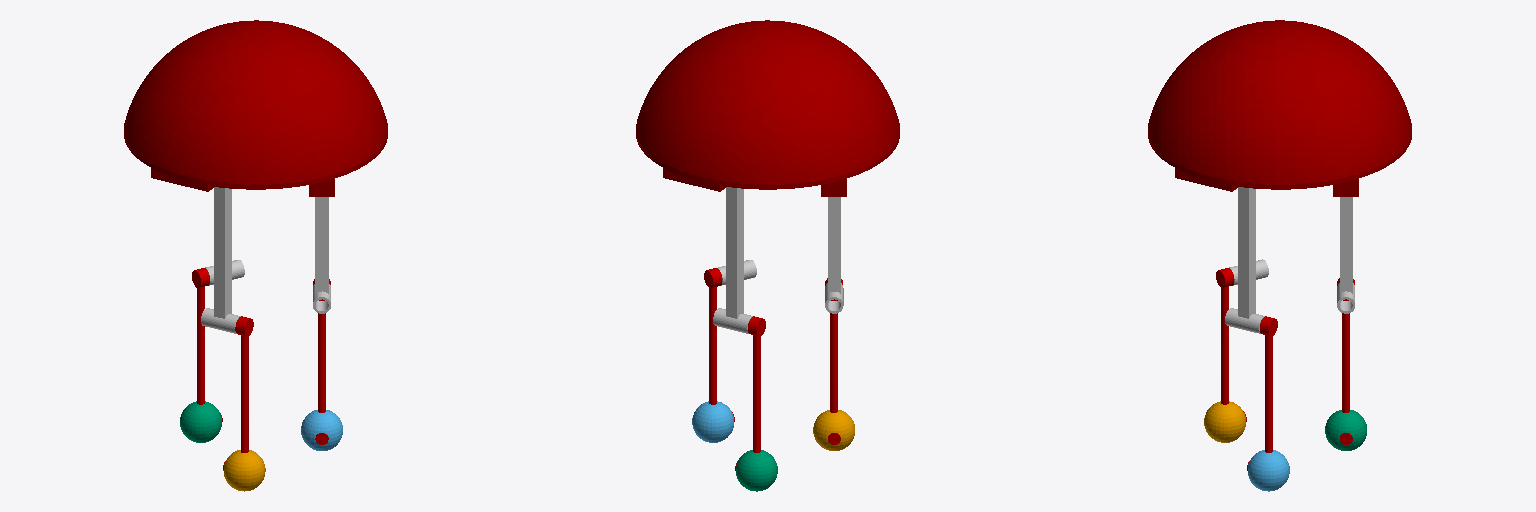
robot.urdf — gurdy:
<robot name="gurdy">

    <material name="blue">
        <color rgba="0 0 0.8 1"/>
    </material>
    <material name="red">
        <color rgba="0.8 0 0 1"/>
    </material>
    <material name="green">
        <color rgba="0 0.8 0 1"/>
    </material>
	<!-- * * * Link Definitions * * * -->

    <link name="base_link">
        <collision>
            <origin xyz="0 0 0" rpy="0 0 0"/>
            <geometry>
                <box size="0.01 0.01 0.01"/>
            </geometry>
        </collision>
		<visual>
		    <origin xyz="0 0 0.01" rpy="0 0 0"/>
			<geometry>
				<box size="0.01 0.01 0.01"/>
			</geometry>
		</visual>
	</link>

    <link name="head_link">
 	    <inertial>
            <origin xyz="0 0 0.02" rpy="0 0 0"/>
            <mass value="0.01" />
            <inertia ixx="7.58333333333e-07" ixy="0.0" ixz="0.0" iyy="7.58333333333e-07" iyz="0.0" izz="1.25e-06"/>
        </inertial>
        <collision>
            <origin xyz="0 0 0.02" rpy="0 0 0"/>
            <geometry>
                <cylinder radius="0.05" length="0.04"/>
            </geometry>
        </collision>
        <visual>
            <origin rpy="0.0 0 0" xyz="0 0 0"/>
            <geometry>
                <mesh filename="package://my_gurdy_description/models/gurdy/meshes/gurdy_head_v2.dae"/>
            </geometry>
        </visual>
	</link>

    <gazebo reference="head_link">
        <mu1>10.0</mu1>
        <mu2>10.0</mu2>
    </gazebo>

    <joint name="fixed" type="fixed">
        <parent link="base_link"/>
        <child link="head_link"/>
    </joint>

    <link name="upperleg_M1_link">
 	    <inertial>
            <origin xyz="0 0 0.03" rpy="0 0 0"/>
            <mass value="0.01" />
            <inertia ixx="3.015625e-05" ixy="0.0" ixz="0.0" iyy="3.015625e-05" iyz="0.0" izz="3.125e-07"/>
        </inertial>
        <collision>
            <origin xyz="0 0 0.03" rpy="0 0 0"/>
            <geometry>
                <cylinder length="0.06" radius="0.0025"/>
            </geometry>
        </collision>
        <visual>
            <origin rpy="0.0 0 0" xyz="0 0 0"/>
            <geometry>
                <mesh filename="package://my_gurdy_description/models/gurdy/meshes/gurdy_higherleg_v2.dae"/>
            </geometry>
        </visual>
	</link>


    <joint name="head_upperlegM1_joint" type="revolute">
    	<parent link="head_link"/>
    	<child link="upperleg_M1_link"/>
        <origin xyz="-0.02165 -0.0125 -0.008" rpy="3.14159 0 0.523599"/>
        <limit lower="-1.55" upper="0.0" effort="1.0" velocity="0.005"/>
        <axis xyz="0 1 0"/>
	</joint>


    <gazebo>
        <plugin name="gazebo_ros_control" filename="libgazebo_ros_control.so">
            <robotNamespace>/gurdy</robotNamespace>
        </plugin>
    </gazebo>

    <transmission name="tran1">
        <type>transmission_interface/SimpleTransmission</type>
        <joint name="head_upperlegM1_joint">
            <hardwareInterface>EffortJointInterface</hardwareInterface>
        </joint>
        <actuator name="motor1">
            <hardwareInterface>EffortJointInterface</hardwareInterface>
            <mechanicalReduction>1</mechanicalReduction>
        </actuator>
    </transmission>

    <link name="upperleg_M2_link">
 	    <inertial>
            <origin xyz="0 0 0.03" rpy="0 0 0"/>
            <mass value="0.01" />
            <inertia ixx="3.015625e-05" ixy="0.0" ixz="0.0" iyy="3.015625e-05" iyz="0.0" izz="3.125e-07"/>
        </inertial>
        <collision>
            <origin xyz="0 0 0.03" rpy="0 0 0"/>
            <geometry>
                <cylinder length="0.06" radius="0.0025"/>
            </geometry>
        </collision>
        <visual>
            <origin rpy="0.0 0 0" xyz="0 0 0"/>
            <geometry>
                <mesh filename="package://my_gurdy_description/models/gurdy/meshes/gurdy_higherleg_v2.dae"/>
            </geometry>
        </visual>
	</link>


    <joint name="head_upperlegM2_joint" type="revolute">
    	<parent link="head_link"/>
    	<child link="upperleg_M2_link"/>
        <origin xyz="0.02165 -0.0125 -0.008" rpy="3.14159 0 2.61799"/>
        <limit lower="-1.55" upper="0.0" effort="1.0" velocity="0.005"/>
        <axis xyz="0 1 0"/>
	</joint>

    <transmission name="tran2">
        <type>transmission_interface/SimpleTransmission</type>
        <joint name="head_upperlegM2_joint">
            <hardwareInterface>EffortJointInterface</hardwareInterface>
        </joint>
        <actuator name="motor2">
            <hardwareInterface>EffortJointInterface</hardwareInterface>
            <mechanicalReduction>1</mechanicalReduction>
        </actuator>
    </transmission>


    <link name="upperleg_M3_link">
 	    <inertial>
            <origin xyz="0 0 0.03" rpy="0 0 0"/>
            <mass value="0.01" />
            <inertia ixx="3.015625e-05" ixy="0.0" ixz="0.0" iyy="3.015625e-05" iyz="0.0" izz="3.125e-07"/>
        </inertial>
        <collision>
            <origin xyz="0 0 0.03" rpy="0 0 0"/>
            <geometry>
                <cylinder length="0.06" radius="0.0025"/>
            </geometry>
        </collision>
        <visual>
            <origin rpy="0.0 0 0" xyz="0 0 0"/>
            <geometry>
                <mesh filename="package://my_gurdy_description/models/gurdy/meshes/gurdy_higherleg_v2.dae"/>
            </geometry>
        </visual>
	</link>


    <joint name="head_upperlegM3_joint" type="revolute">
    	<parent link="head_link"/>
    	<child link="upperleg_M3_link"/>
        <origin xyz="0 0.025 -0.008" rpy="3.14159 0 -1.5708"/>
        <limit lower="-1.55" upper="0.0" effort="1.0" velocity="0.005"/>
        <axis xyz="0 1 0"/>
	</joint>

    <transmission name="tran3">
        <type>transmission_interface/SimpleTransmission</type>
        <joint name="head_upperlegM3_joint">
            <hardwareInterface>EffortJointInterface</hardwareInterface>
        </joint>
        <actuator name="motor3">
            <hardwareInterface>EffortJointInterface</hardwareInterface>
            <mechanicalReduction>1</mechanicalReduction>
        </actuator>
    </transmission>


    <link name="lowerleg_M1_link">
 	    <inertial>
            <origin xyz="0 0 0.03" rpy="0 0 0"/>
            <mass value="0.01" />
            <inertia ixx="3.005625e-05" ixy="0.0" ixz="0.0" iyy="3.005625e-05" iyz="0.0" izz="1.125e-07"/>
        </inertial>
        <collision>
            <origin xyz="0 0 0.03" rpy="0 0 0"/>
            <geometry>
                <cylinder length="0.06" radius="0.0015"/>
            </geometry>
        </collision>
        <visual>
            <origin rpy="0.0 0 0" xyz="0 0 0"/>
            <geometry>
                <mesh filename="package://my_gurdy_description/models/gurdy/meshes/gurdy_lowerleg_v2.dae"/>
            </geometry>
        </visual>
	</link>


    <joint name="upperlegM1_lowerlegM1_joint" type="continuous">
    	<parent link="upperleg_M1_link"/>
    	<child link="lowerleg_M1_link"/>
        <origin xyz="0 0.0095 0.06" rpy="0 0 3.14159"/>
        <limit lower="-2.9" upper="1.5708" effort="1.0" velocity="0.005"/>
        <axis xyz="0 1 0"/>
	</joint>

    <transmission name="tran4">
        <type>transmission_interface/SimpleTransmission</type>
        <joint name="upperlegM1_lowerlegM1_joint">
            <hardwareInterface>EffortJointInterface</hardwareInterface>
        </joint>
        <actuator name="motor4">
            <hardwareInterface>EffortJointInterface</hardwareInterface>
            <mechanicalReduction>1</mechanicalReduction>
        </actuator>
    </transmission>

    <link name="lowerleg_M2_link">
 	    <inertial>
            <origin xyz="0 0 0.03" rpy="0 0 0"/>
            <mass value="0.01" />
            <inertia ixx="3.005625e-05" ixy="0.0" ixz="0.0" iyy="3.005625e-05" iyz="0.0" izz="1.125e-07"/>
        </inertial>
        <collision>
            <origin xyz="0 0 0.03" rpy="0 0 0"/>
            <geometry>
                <cylinder length="0.06" radius="0.0015"/>
            </geometry>
        </collision>
        <visual>
            <origin rpy="0.0 0 0" xyz="0 0 0"/>
            <geometry>
                <mesh filename="package://my_gurdy_description/models/gurdy/meshes/gurdy_lowerleg_v2.dae"/>
            </geometry>
        </visual>
	</link>


    <joint name="upperlegM2_lowerlegM2_joint" type="revolute">
    	<parent link="upperleg_M2_link"/>
    	<child link="lowerleg_M2_link"/>
        <origin xyz="0 0.0095 0.06" rpy="0 0 3.14159"/>
        <limit lower="-2.9" upper="1.5708" effort="1.0" velocity="0.005"/>
        <axis xyz="0 1 0"/>
	</joint>

    <transmission name="tran5">
        <type>transmission_interface/SimpleTransmission</type>
        <joint name="upperlegM2_lowerlegM2_joint">
            <hardwareInterface>EffortJointInterface</hardwareInterface>
        </joint>
        <actuator name="motor5">
            <hardwareInterface>EffortJointInterface</hardwareInterface>
            <mechanicalReduction>1</mechanicalReduction>
        </actuator>
    </transmission>

    <link name="lowerleg_M3_link">
 	    <inertial>
            <origin xyz="0 0 0.03" rpy="0 0 0"/>
            <mass value="0.01" />
            <inertia ixx="3.005625e-05" ixy="0.0" ixz="0.0" iyy="3.005625e-05" iyz="0.0" izz="1.125e-07"/>
        </inertial>
        <collision>
            <origin xyz="0 0 0.03" rpy="0 0 0"/>
            <geometry>
                <cylinder length="0.06" radius="0.0015"/>
            </geometry>
        </collision>
        <visual>
            <origin rpy="0.0 0 0" xyz="0 0 0"/>
            <geometry>
                <mesh filename="package://my_gurdy_description/models/gurdy/meshes/gurdy_lowerleg_v2.dae"/>
            </geometry>
        </visual>
	</link>


    <joint name="upperlegM3_lowerlegM3_joint" type="revolute">
    	<parent link="upperleg_M3_link"/>
    	<child link="lowerleg_M3_link"/>
        <origin xyz="0 0.0095 0.06" rpy="0 0 3.14159"/>
        <limit lower="-2.9" upper="1.5708" effort="1.0" velocity="0.005"/>
        <axis xyz="0 1 0"/>
	</joint>

    <transmission name="tran6">
        <type>transmission_interface/SimpleTransmission</type>
        <joint name="upperlegM3_lowerlegM3_joint">
            <hardwareInterface>EffortJointInterface</hardwareInterface>
        </joint>
        <actuator name="motor6">
            <hardwareInterface>EffortJointInterface</hardwareInterface>
            <mechanicalReduction>1</mechanicalReduction>
        </actuator>
    </transmission>


    <link name="footM1_link">
 	    <inertial>
            <origin xyz="0 0 0" rpy="0 0 0"/>
            <mass value="0.01" />
            <inertia ixx="1.28e-06" ixy="0.0" ixz="0.0" iyy="1.28e-06" iyz="0.0" izz="1.28e-06"/>
        </inertial>
        <collision>
            <origin xyz="0 0 0" rpy="0 0 0"/>
            <geometry>
                <sphere radius="0.008"/>
            </geometry>
        </collision>
        <visual>
            <origin rpy="0.0 0 0" xyz="0 0 0"/>
            <geometry>
                <sphere radius="0.008"/>
            </geometry>
        </visual>
	</link>

    <gazebo reference="footM1_link">
        <kp>1000.0</kp>
        <kd>1000.0</kd>
        <mu1>10.0</mu1>
        <mu2>10.0</mu2>
        <material>Gazebo/Red</material>
    </gazebo>


    <joint name="basefoot_peg_M1_basefoot_peg_M1_joint_joint" type="fixed">
        <parent link="lowerleg_M1_link"/>
        <child link="footM1_link"/>
        <origin xyz="0 0 0.06" rpy="0 0 0"/>
    </joint>

    <link name="footM2_link">
 	    <inertial>
            <origin xyz="0 0 0" rpy="0 0 0"/>
            <mass value="0.01" />
            <inertia ixx="1.28e-06" ixy="0.0" ixz="0.0" iyy="1.28e-06" iyz="0.0" izz="1.28e-06"/>
        </inertial>
        <collision>
            <origin xyz="0 0 0" rpy="0 0 0"/>
            <geometry>
                <sphere radius="0.008"/>
            </geometry>
        </collision>
        <visual>
            <origin rpy="0.0 0 0" xyz="0 0 0"/>
            <geometry>
                <sphere radius="0.008"/>
            </geometry>
        </visual>
	</link>

    <gazebo reference="footM2_link">
        <kp>1000.0</kp>
        <kd>1000.0</kd>
        <mu1>10.0</mu1>
        <mu2>10.0</mu2>
        <material>Gazebo/Green</material>
    </gazebo>

    <joint name="basefoot_peg_M2_basefoot_peg_M2_joint_joint" type="fixed">
        <parent link="lowerleg_M2_link"/>
        <child link="footM2_link"/>
        <origin xyz="0 0 0.06" rpy="0 0 0"/>
    </joint>

    <link name="footM3_link">
 	    <inertial>
            <origin xyz="0 0 0" rpy="0 0 0"/>
            <mass value="0.01" />
            <inertia ixx="1.28e-06" ixy="0.0" ixz="0.0" iyy="1.28e-06" iyz="0.0" izz="1.28e-06"/>
        </inertial>
        <collision>
            <origin xyz="0 0 0" rpy="0 0 0"/>
            <geometry>
                <sphere radius="0.008"/>
            </geometry>
        </collision>
        <visual>
            <origin rpy="0.0 0 0" xyz="0 0 0"/>
            <geometry>
                <sphere radius="0.008"/>
            </geometry>
        </visual>
	</link>

    <gazebo reference="footM3_link">
        <kp>1000.0</kp>
        <kd>1000.0</kd>
        <mu1>10.0</mu1>
        <mu2>10.0</mu2>
        <material>Gazebo/Blue</material>
    </gazebo>

    <joint name="basefoot_peg_M3_basefoot_peg_M3_joint_joint" type="fixed">
        <parent link="lowerleg_M3_link"/>
        <child link="footM3_link"/>
        <origin xyz="0 0 0.06" rpy="0 0 0"/>
    </joint>


    <gazebo>
        <plugin name="gazebo_ros_imu_controller" filename="libgazebo_ros_imu.so">
          <robotNamespace>/gurdy</robotNamespace>
          <topicName>imu/data</topicName>
          <serviceName>imu/service</serviceName>
          <bodyName>base_link</bodyName>
          <gaussianNoise>0</gaussianNoise>
          <rpyOffsets>0 0 0</rpyOffsets>
          <updateRate>10.0</updateRate>
          <alwaysOn>true</alwaysOn>
          <gaussianNoise>0</gaussianNoise>
        </plugin>
    </gazebo>


</robot>

--- Render facts (derived) ---
The picture shows the robot from 3 angles, left to right: view 1: azimuth 30°, elevation 25°; view 2: azimuth 150°, elevation 25°; view 3: azimuth 270°, elevation 25°; orthographic projection.
Robot: gurdy — 11 links, 10 joints (5 revolute, 1 continuous, 4 fixed); root link base_link; default pose: all joints at 0.
Visible links, largest first — view 1: head_link, upperleg_M1_link, upperleg_M2_link, footM3_link, footM1_link, lowerleg_M1_link, footM2_link, lowerleg_M3_link, lowerleg_M2_link; view 2: head_link, upperleg_M3_link, upperleg_M1_link, footM2_link, footM3_link, lowerleg_M3_link, footM1_link, lowerleg_M2_link, lowerleg_M1_link; view 3: head_link, upperleg_M2_link, upperleg_M3_link, footM2_link, footM1_link, footM3_link, lowerleg_M2_link, lowerleg_M1_link, lowerleg_M3_link.
Boxes of the visible links, bbox=[...] form: head_link: bbox=[124, 20, 387, 196]; upperleg_M1_link: bbox=[201, 187, 240, 333]; upperleg_M2_link: bbox=[313, 197, 330, 313]; footM3_link: bbox=[180, 401, 221, 442]; footM1_link: bbox=[223, 450, 265, 491]; lowerleg_M1_link: bbox=[223, 316, 253, 469]; footM2_link: bbox=[301, 410, 342, 450]; lowerleg_M3_link: bbox=[192, 268, 222, 421]; lowerleg_M2_link: bbox=[313, 279, 330, 444]; head_link: bbox=[636, 20, 899, 196]; upperleg_M3_link: bbox=[713, 187, 752, 333]; upperleg_M1_link: bbox=[825, 197, 843, 313]; footM2_link: bbox=[692, 401, 733, 442]; footM3_link: bbox=[736, 450, 777, 491]; lowerleg_M3_link: bbox=[735, 316, 765, 470]; footM1_link: bbox=[813, 410, 854, 450]; lowerleg_M2_link: bbox=[704, 268, 734, 421]; lowerleg_M1_link: bbox=[825, 278, 842, 444]; head_link: bbox=[1148, 20, 1411, 196]; upperleg_M2_link: bbox=[1225, 187, 1264, 333]; upperleg_M3_link: bbox=[1337, 197, 1354, 313]; footM2_link: bbox=[1248, 450, 1289, 491]; footM1_link: bbox=[1204, 401, 1245, 442]; footM3_link: bbox=[1325, 410, 1366, 450]; lowerleg_M2_link: bbox=[1247, 316, 1277, 470]; lowerleg_M1_link: bbox=[1216, 268, 1246, 421]; lowerleg_M3_link: bbox=[1337, 278, 1354, 444].
Bounding box of the posed robot: 0.1 × 0.1 × 0.178 m (x, y, z).
7 mesh visuals loaded from 3 distinct referenced files (3 Collada DAE).